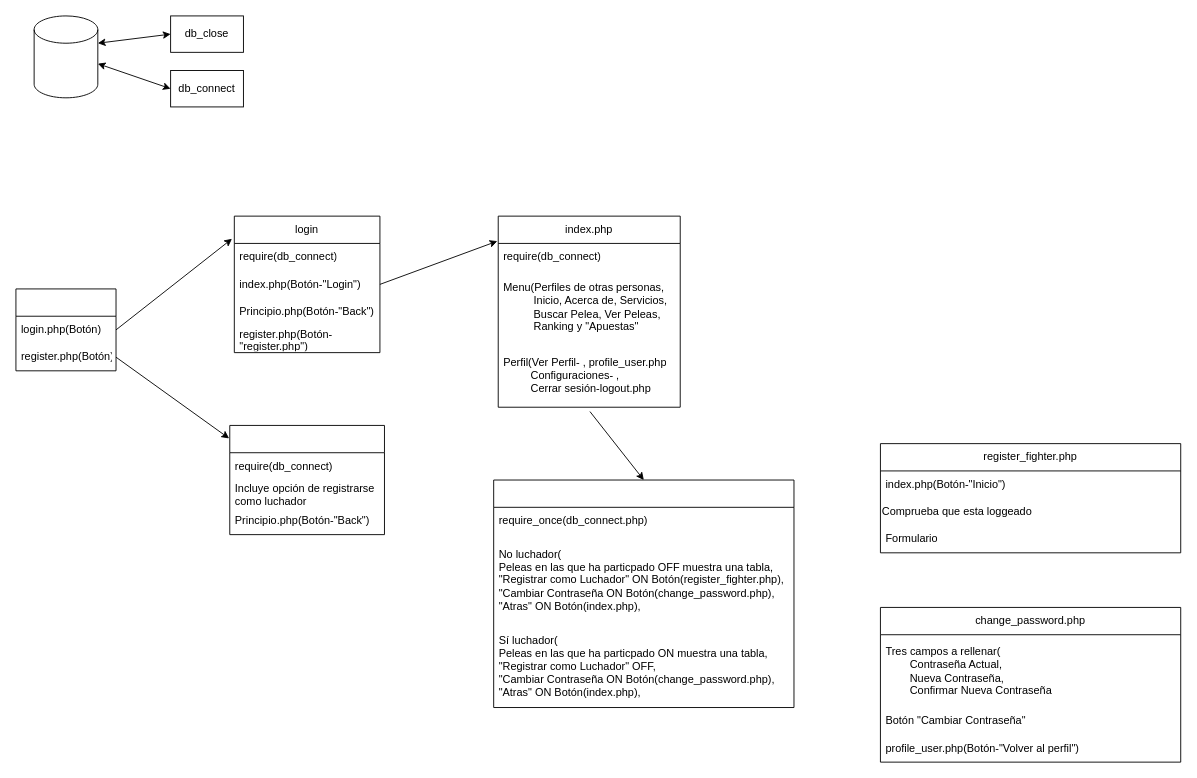
Some shapes in this 1197 by 778 pixel diagram are drawn without their labels. Here are the shapes that lost their labels. From the top down, the box of each, then its label:
(15, 288, 116, 371): Principio
(229, 425, 384, 535): register
(493, 479, 794, 708): profile_user.php
